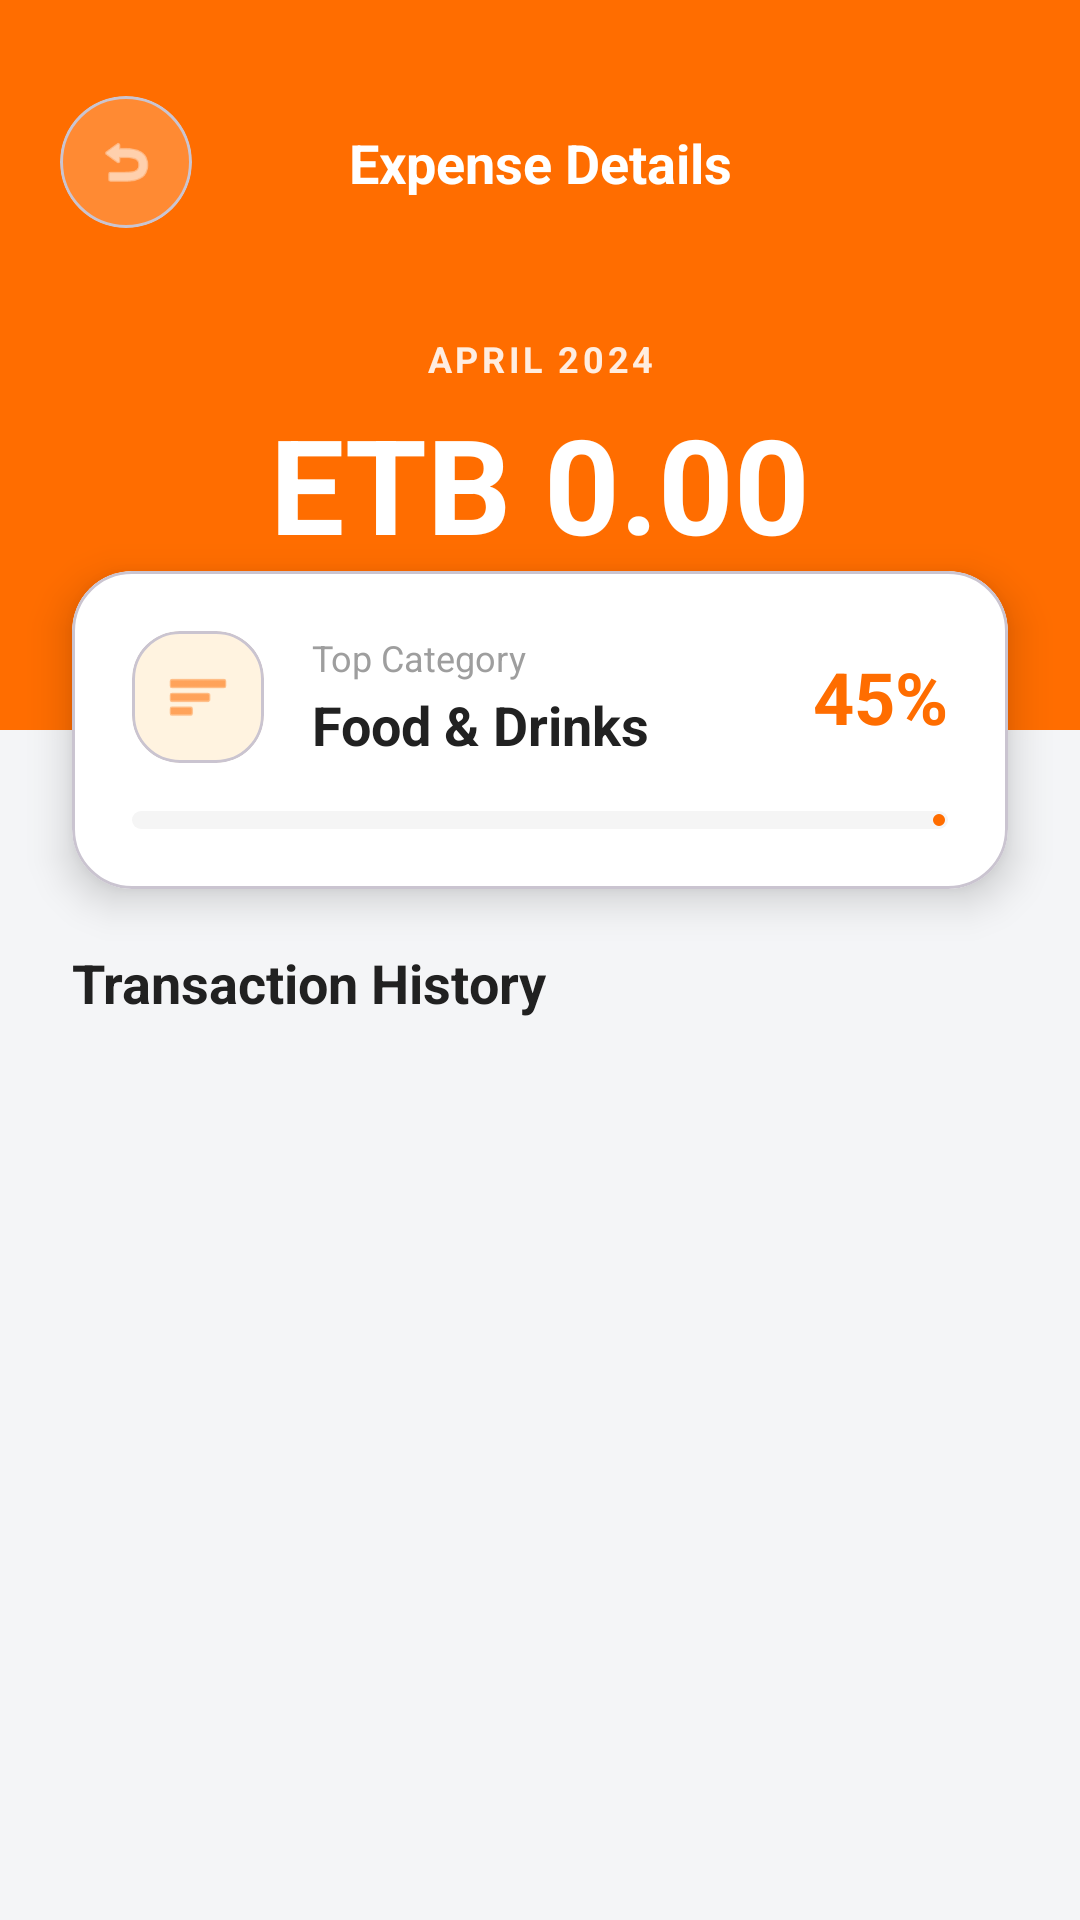

Icon click points for this 1080w x 1920h phone screenshot, format (x=x, y=y):
revert: (x=126, y=162)
sort by size: (x=198, y=697)
